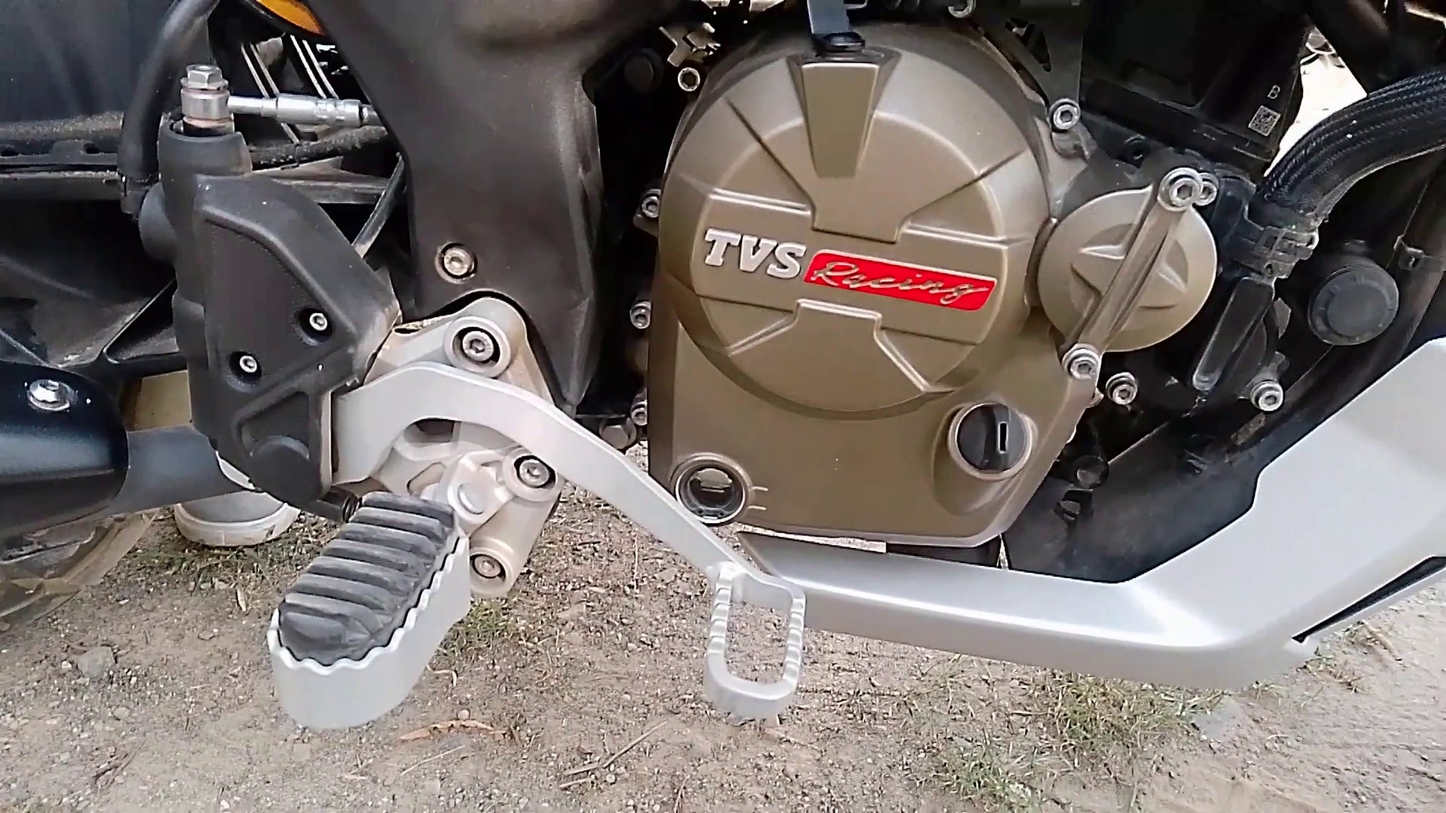bike-engine: (650, 25, 1227, 555)
bike-engine-level: (649, 438, 764, 532)
bike-oil-cap: (949, 394, 1037, 483)
